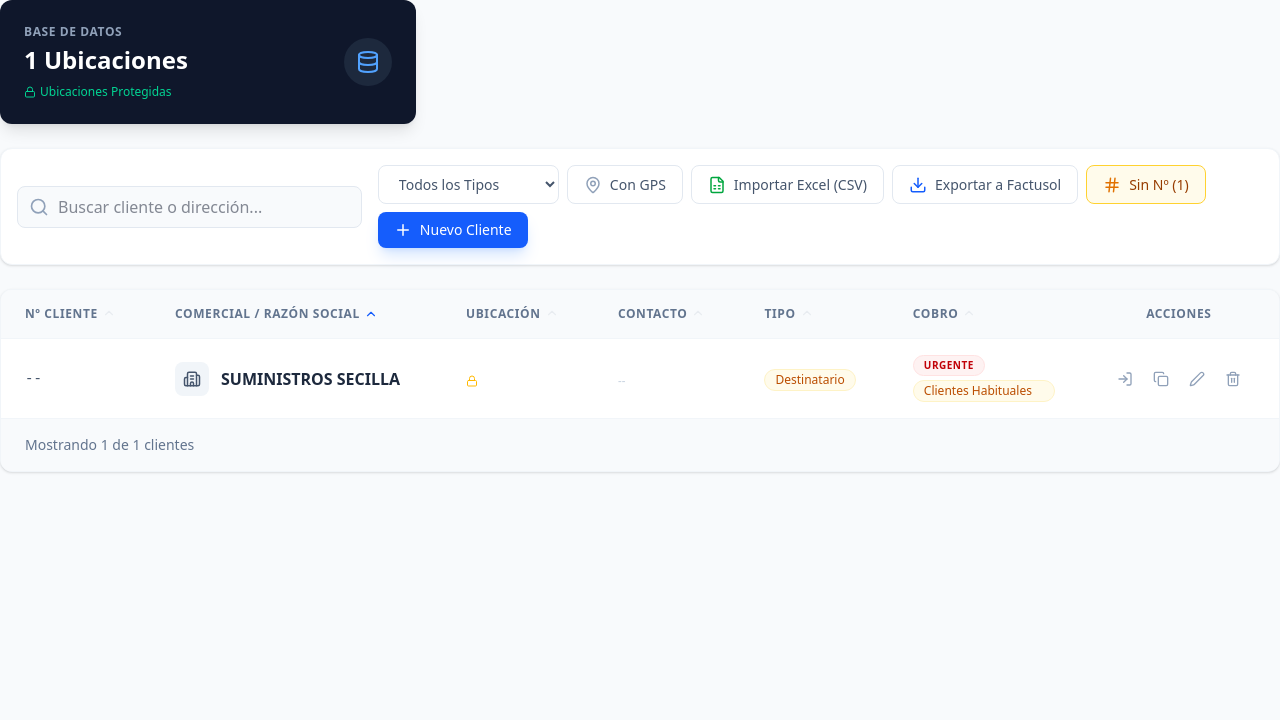
Test: Clients — repasar las fichas sin Nº › cancelar no toca nada
Click the button "Sin Nº (1)": (1146, 184) [1086,165,1206,204]
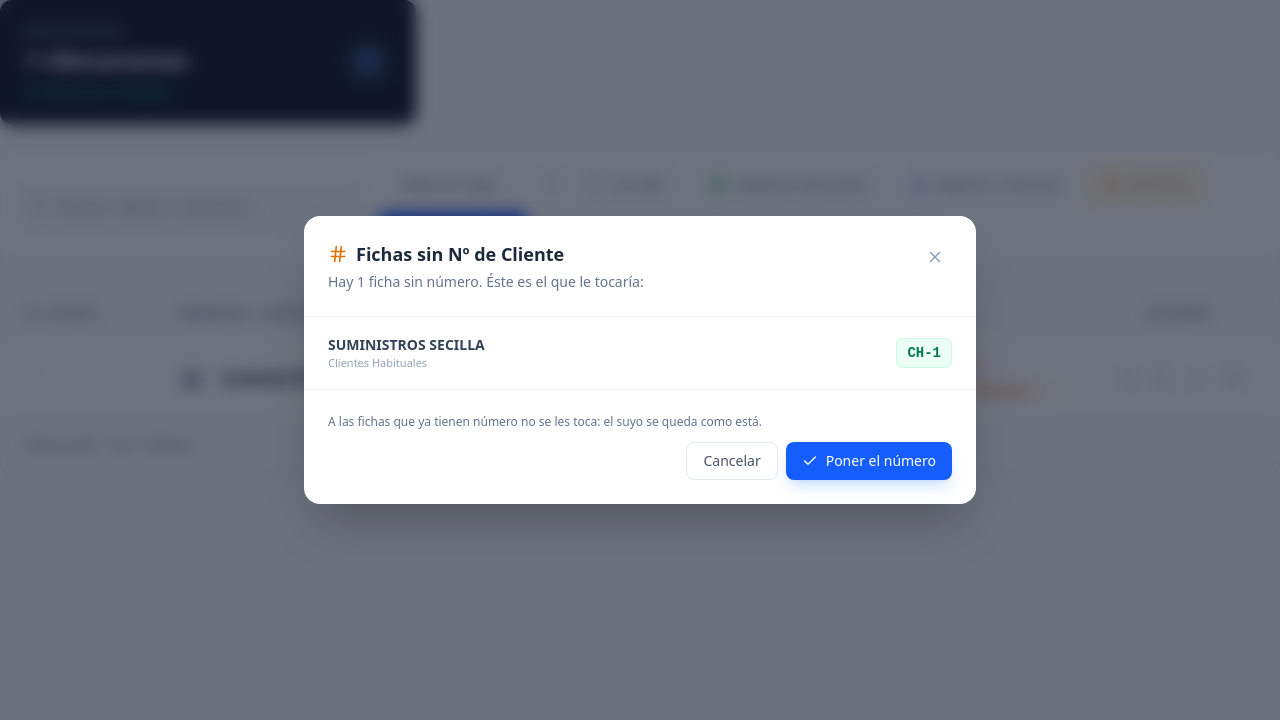
Click the button "Cancelar": (732, 461) [686,442,778,480]
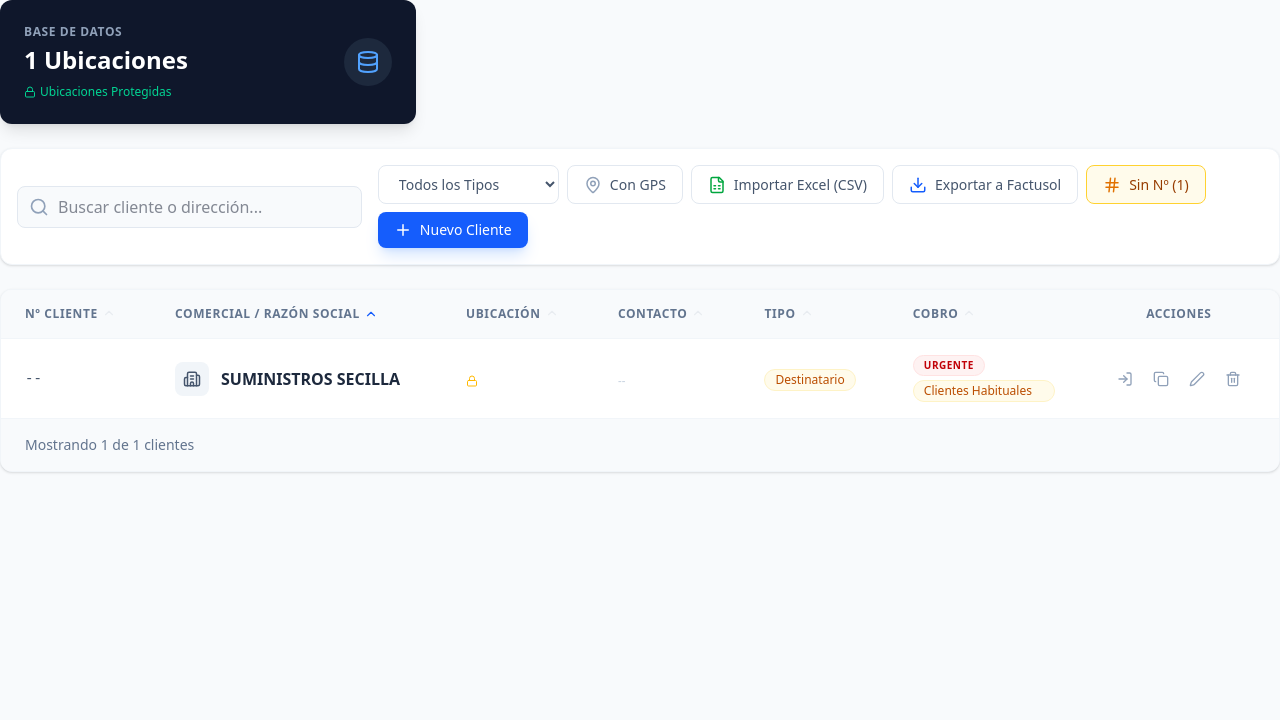
Now the button "Poner el número" is gone
